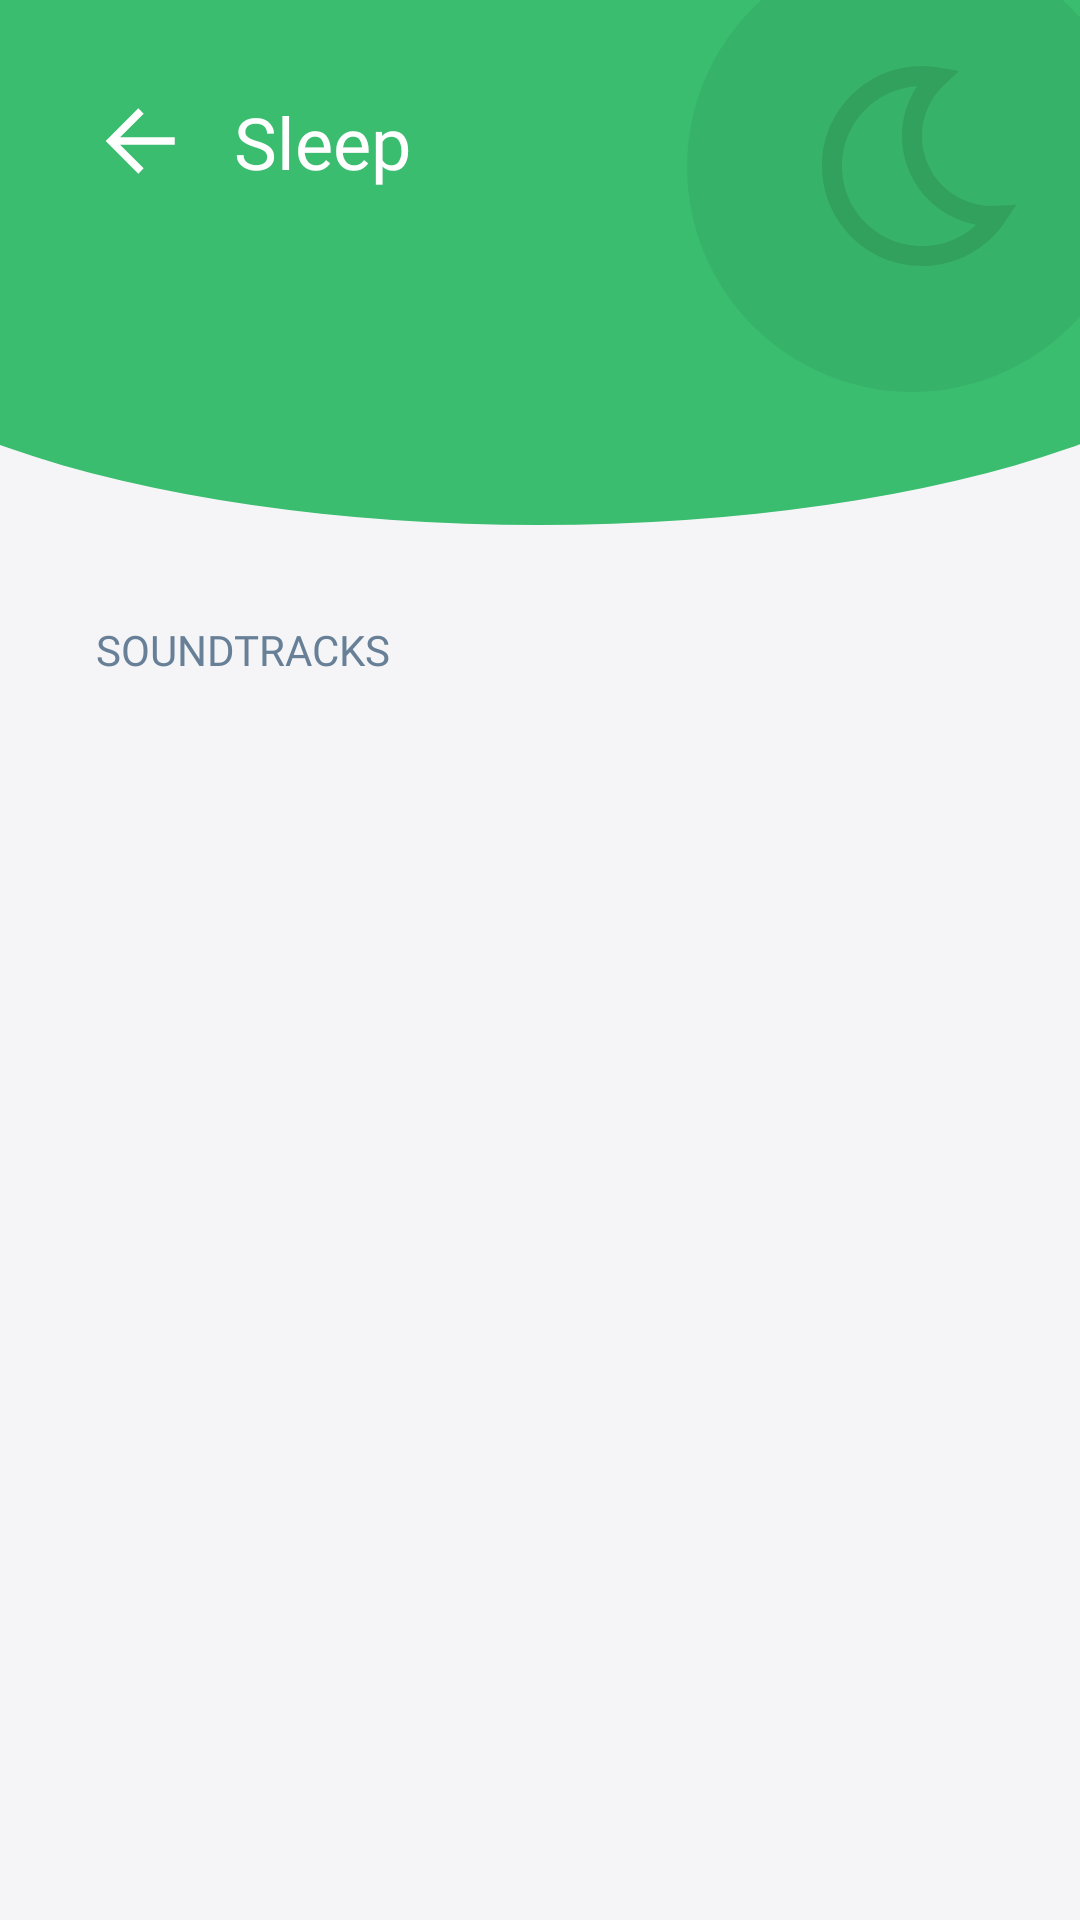

Icons on this 1080*1920 Android screen, each with its box as (x1, y1, x2, y2):
return: (106, 108, 175, 174)
